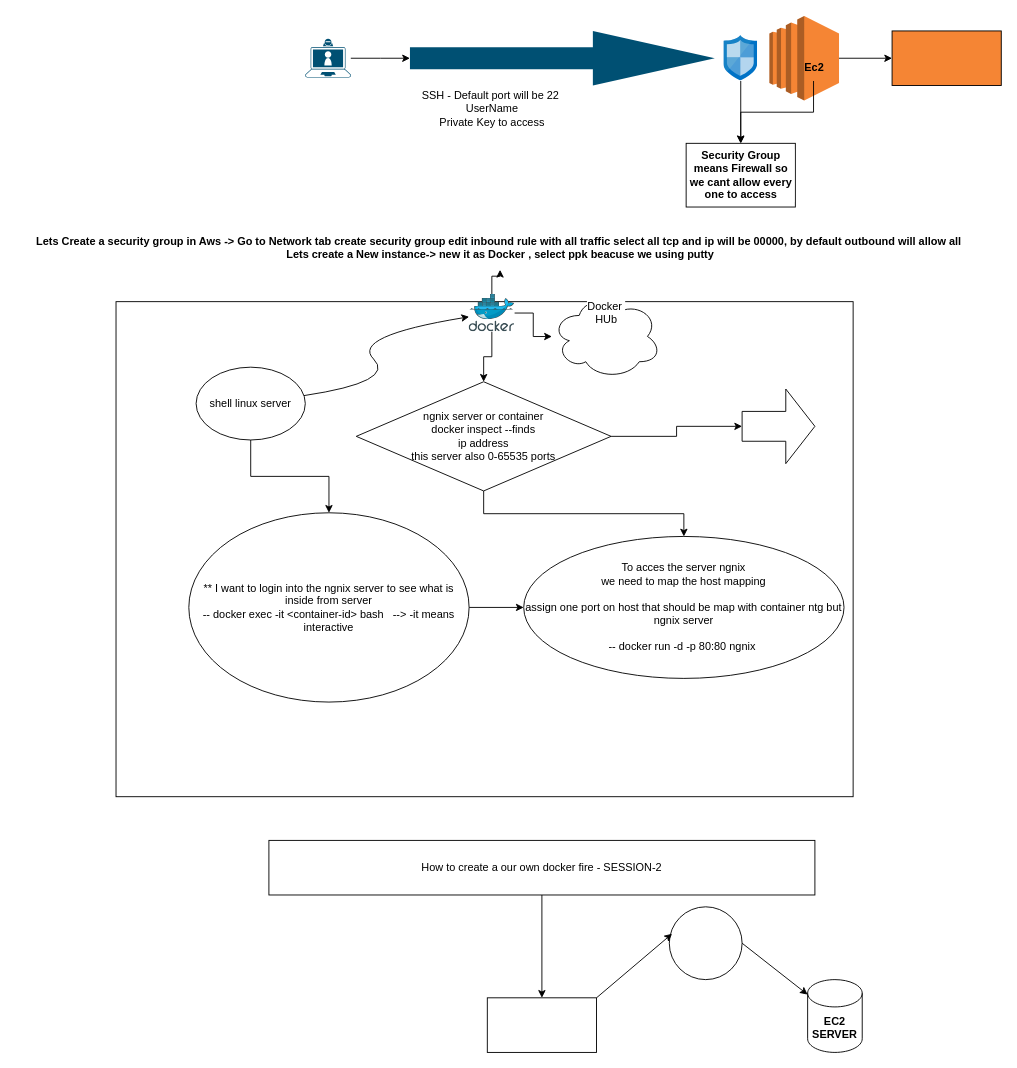
The diagram is 1017 pixels wide and 1068 high, and some of its shapes have lost their labels. The shapes that lost their labels are listed below. From the top down, each one's centre as x and y in pixels, then its label:
At (946,58): "Every System as 0-65,535 port available".
At (491,312): "Docker Engine".
At (778,426): "runs default port 80".
At (705,943): "GITHUB".
At (541,1024): "I am developing a code from laptop then i push to git hub".
